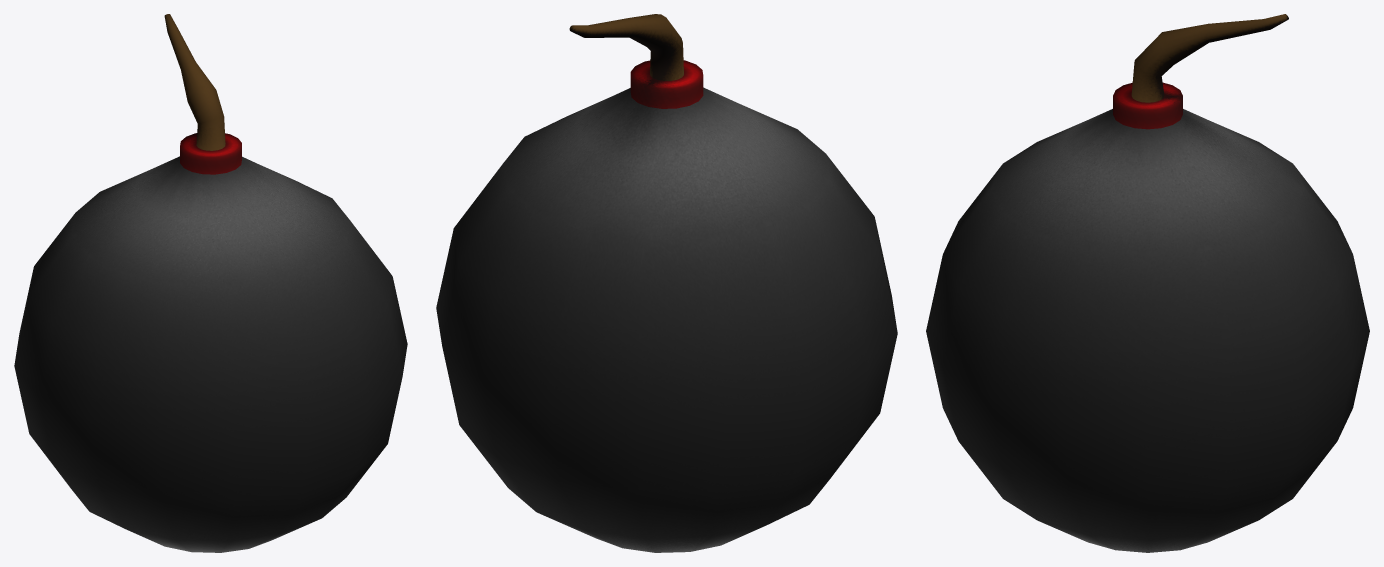
The model's file is bomb.obj.
3 renders of one model, left to right at view 1: azimuth 30°, elevation 25°; view 2: azimuth 150°, elevation 25°; view 3: azimuth 270°, elevation 25°, orthographic. The views are drawn at different scales.
Parts seen in each view (by area): view 1: Sphere; view 2: Sphere; view 3: Sphere.
Part boxes in pixels (x1,y1,x2,y2): Sphere: [14, 14, 407, 552]; Sphere: [436, 14, 897, 552]; Sphere: [926, 14, 1369, 552].
Size of the model in its own units: 0.5657 by 0.7422 by 0.5657.
3 materials, 3 textured.
